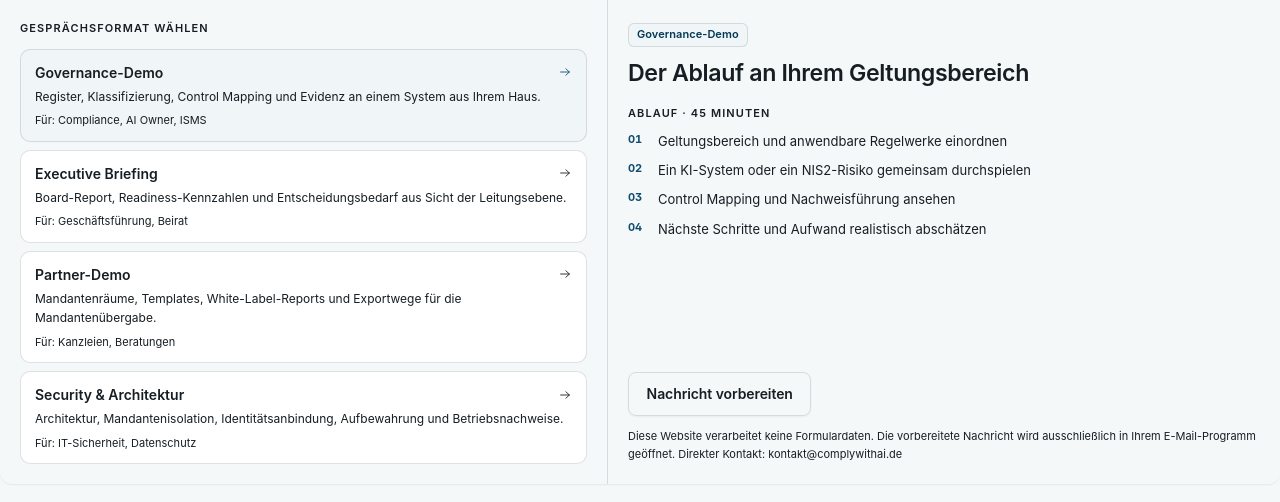
DemoRequestPathways › bereitet je Format eine eigene Nachricht mit passendem Betreff vor
The width and height of the screenshot is (1280, 502).
Click the button "Partner-Demo" at x=304, y=307, box [20, 250, 587, 363]
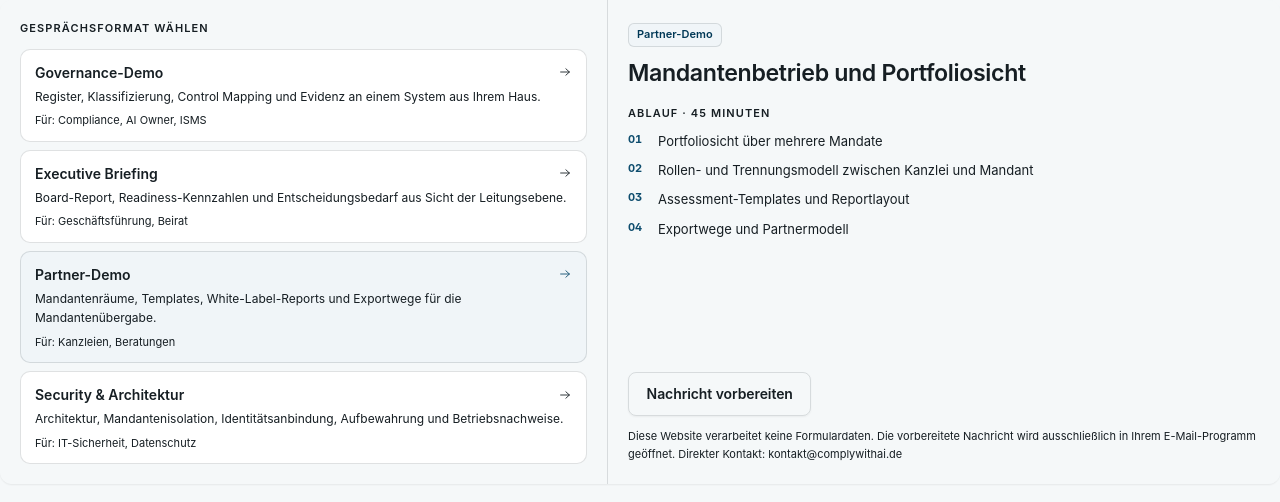
Expected: the heading "Mandantenbetrieb und Portfoliosicht" is shown, [628, 59, 1026, 87]
